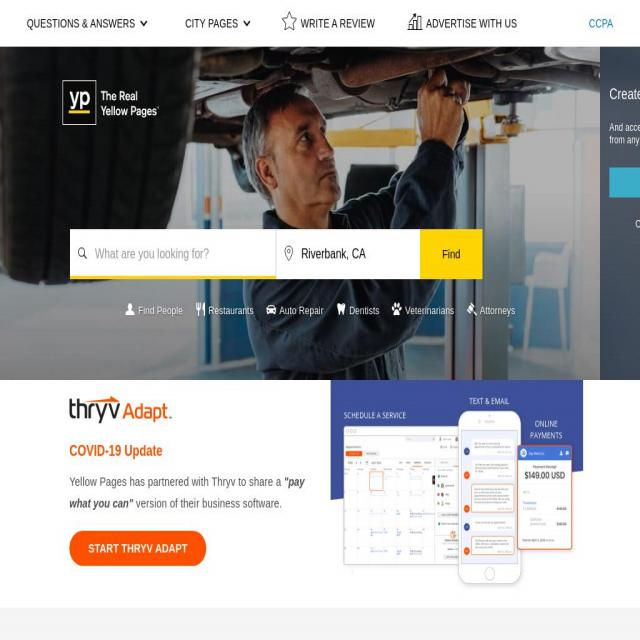button: (345, 426, 465, 564), (459, 410, 522, 584), (7, 0, 166, 47), (406, 0, 537, 47), (518, 442, 572, 549), (282, 0, 394, 47), (166, 0, 270, 47), (62, 80, 160, 129), (70, 531, 206, 566), (420, 229, 482, 279), (569, 0, 633, 47), (392, 301, 454, 317), (195, 301, 254, 317), (609, 168, 640, 198), (125, 301, 183, 317), (266, 301, 324, 317), (466, 301, 516, 317), (336, 301, 380, 317)
field: (70, 229, 276, 279), (276, 229, 420, 279)
